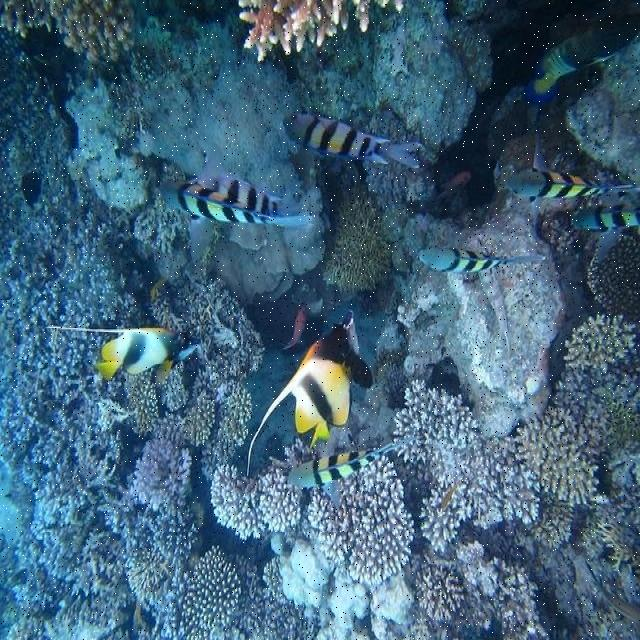fish: (247, 309, 374, 478), (504, 130, 639, 239), (287, 427, 423, 514), (523, 15, 639, 104), (44, 326, 201, 389), (190, 142, 304, 216), (157, 181, 314, 233), (283, 113, 423, 168), (571, 194, 640, 263), (479, 267, 513, 373), (587, 558, 639, 625), (417, 246, 545, 273), (280, 305, 310, 350), (436, 171, 472, 202), (21, 171, 44, 211)
reefs: (0, 22, 266, 639), (178, 311, 639, 638), (396, 33, 639, 436), (63, 0, 332, 308), (290, 0, 522, 294), (237, 263, 417, 475), (0, 0, 136, 71), (238, 1, 370, 62), (249, 399, 312, 477)
